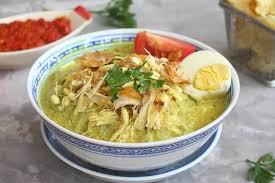Soto: (38, 41, 197, 156)
Telur rebus: (179, 44, 231, 107)
